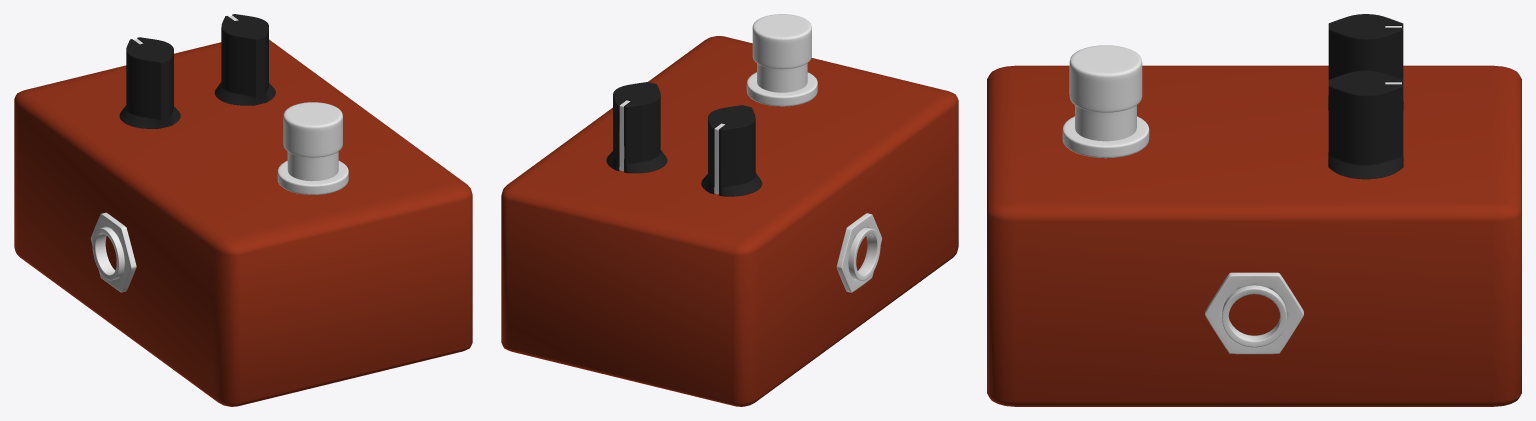
File: pedal.gltf
3 views of the same model, side by side, from view 1: azimuth 30°, elevation 25°; view 2: azimuth 150°, elevation 25°; view 3: azimuth 270°, elevation 25° (orthographic). The views are drawn at different scales.
Visible parts, largest first — view 1: Body, Knob, StompButton, Input; view 2: Body, Knob, StompButton, Input; view 3: Body, Knob, StompButton, Input.
Boxes of the visible parts, left/top/right/bottom form: Body: left=14, top=39, right=472, bottom=406; Knob: left=119, top=14, right=275, bottom=128; StompButton: left=277, top=102, right=348, bottom=194; Input: left=90, top=212, right=136, bottom=292; Body: left=501, top=36, right=958, bottom=406; Knob: left=606, top=82, right=762, bottom=196; StompButton: left=746, top=14, right=817, bottom=106; Input: left=836, top=213, right=882, bottom=292; Body: left=987, top=65, right=1521, bottom=406; Knob: left=1328, top=14, right=1403, bottom=179; StompButton: left=1062, top=45, right=1149, bottom=158; Input: left=1205, top=272, right=1303, bottom=354.
Size of the model in its own units: 0.0869 by 0.07 by 0.12.
